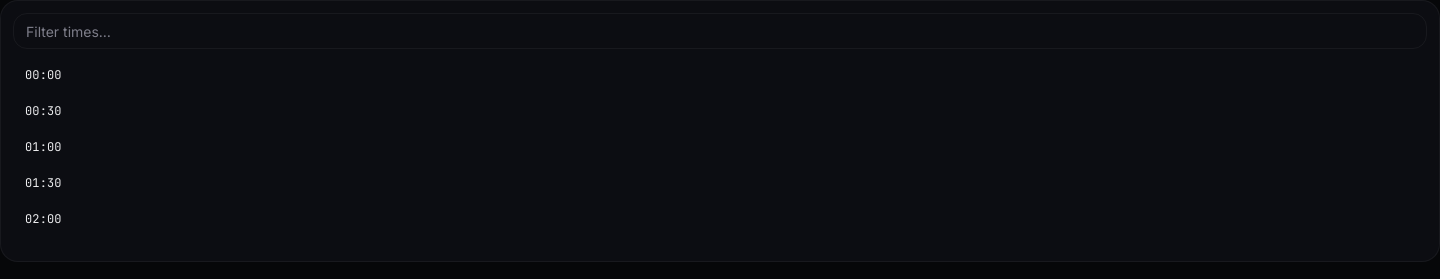
Wave F — pickers › TimePicker filters slots
The image size is (1440, 279).
Type "09:" into the field labelled "Filter times". click: [720, 31]
box: [13, 13, 1427, 49]
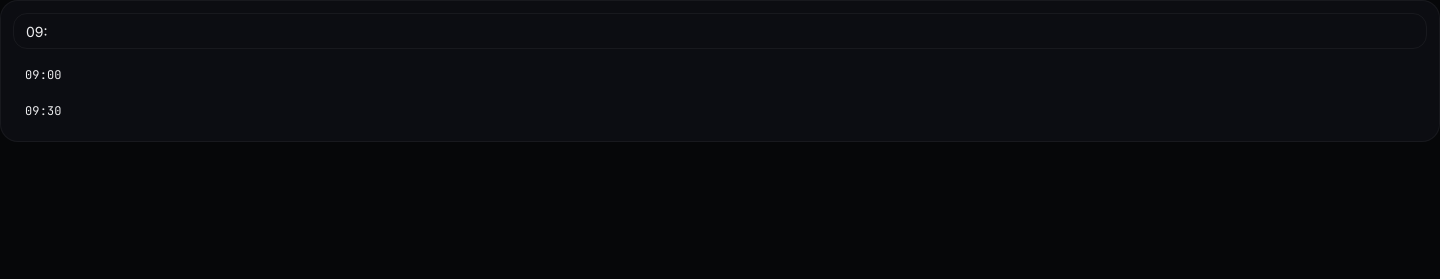
Now the option "09:00" is shown, box [13, 57, 1427, 93]
